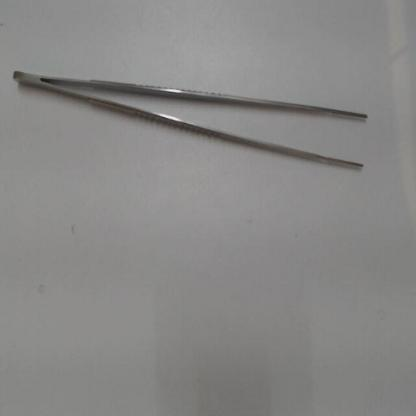DeBakey Dissector: (6, 62, 374, 187)
